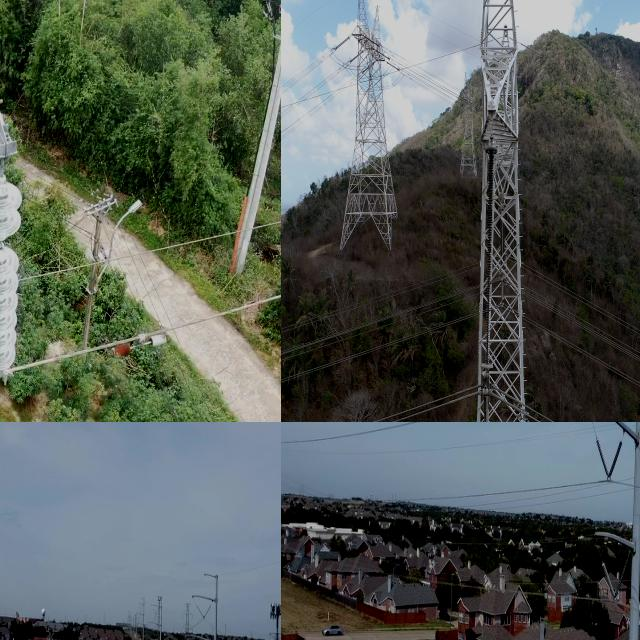杆塔: (475, 0, 529, 422), (346, 0, 393, 252), (458, 52, 475, 176), (179, 600, 194, 640)
正常电缆: (0, 281, 281, 391), (0, 214, 281, 298), (281, 315, 474, 383), (366, 385, 474, 422), (384, 392, 475, 422)
正常绝缘子: (0, 162, 28, 393), (601, 434, 627, 498), (606, 552, 632, 613), (594, 546, 619, 607), (591, 426, 614, 487)
绝缘子破损: (0, 239, 6, 249)
